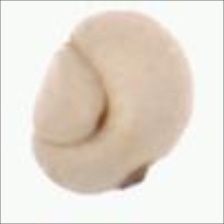L5: (31, 37, 112, 147), (116, 155, 163, 192)
L6: (30, 9, 195, 197)
